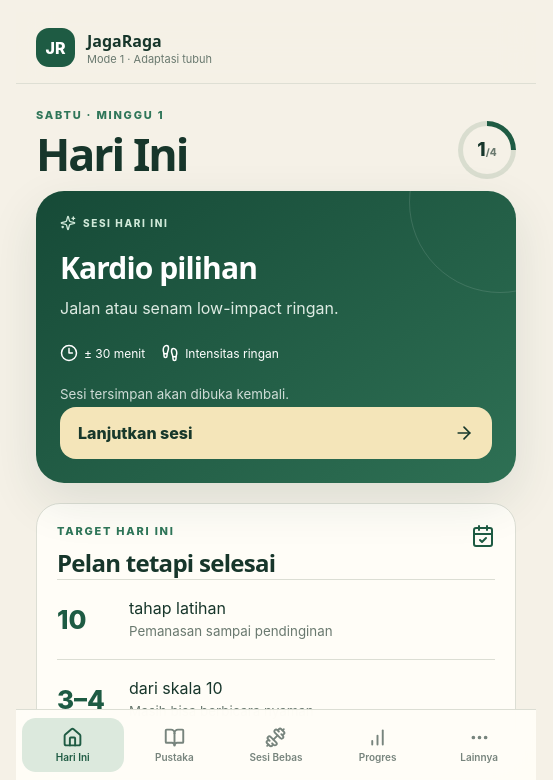
Scenario: resumes an existing active session without reopening configuration
Click the button "Lanjutkan sesi" at point(135, 433), box [60, 407, 492, 459]
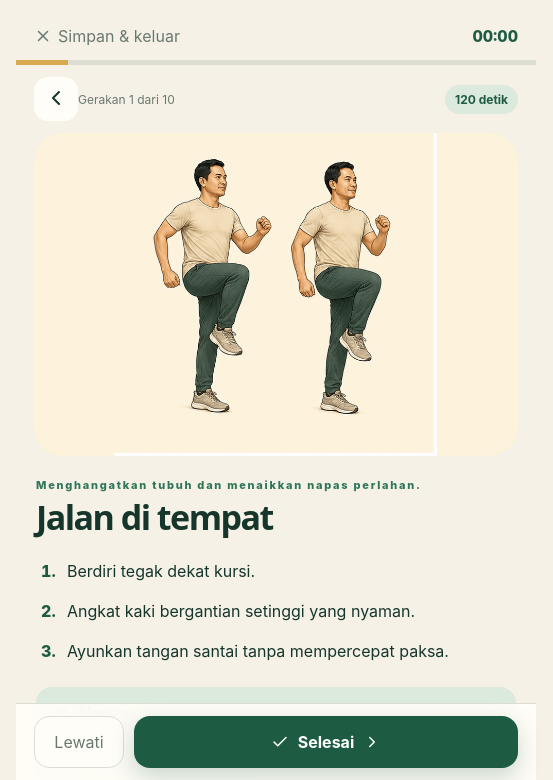
Result: the heading "Jalan di tempat" is shown at [36, 494, 273, 540]
